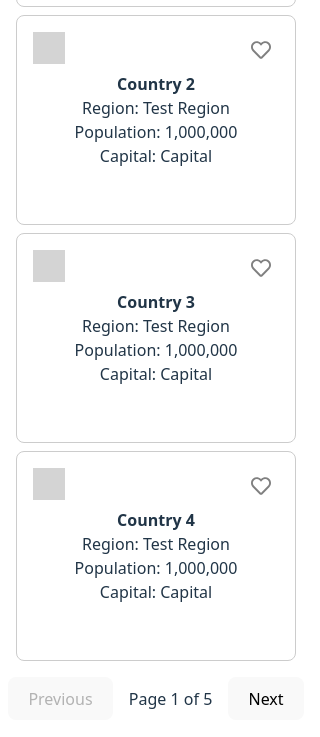
Test: CountryList › Enhanced Pagination › navigates to next page when next button is clicked
(page scrolled)
Note: Click next button
Click the button "Next". click: (266, 699)
box: x1=228 y1=677 x2=304 y2=720
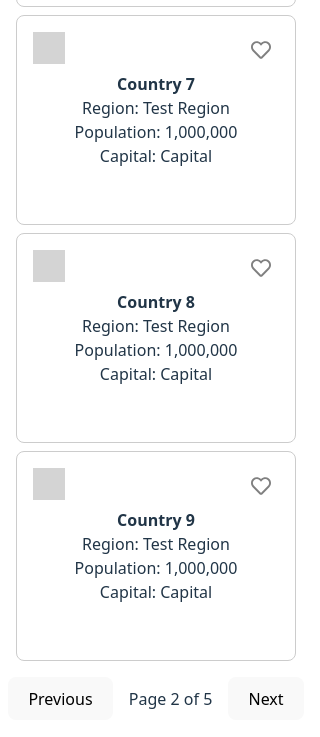
Check: the text "Country 9" is shown, box x1=117 y1=509 x2=195 y2=531
Check: the text "Country 4" is gone
Check: the text "Page 2 of 5" is shown, box x1=129 y1=687 x2=212 y2=711
